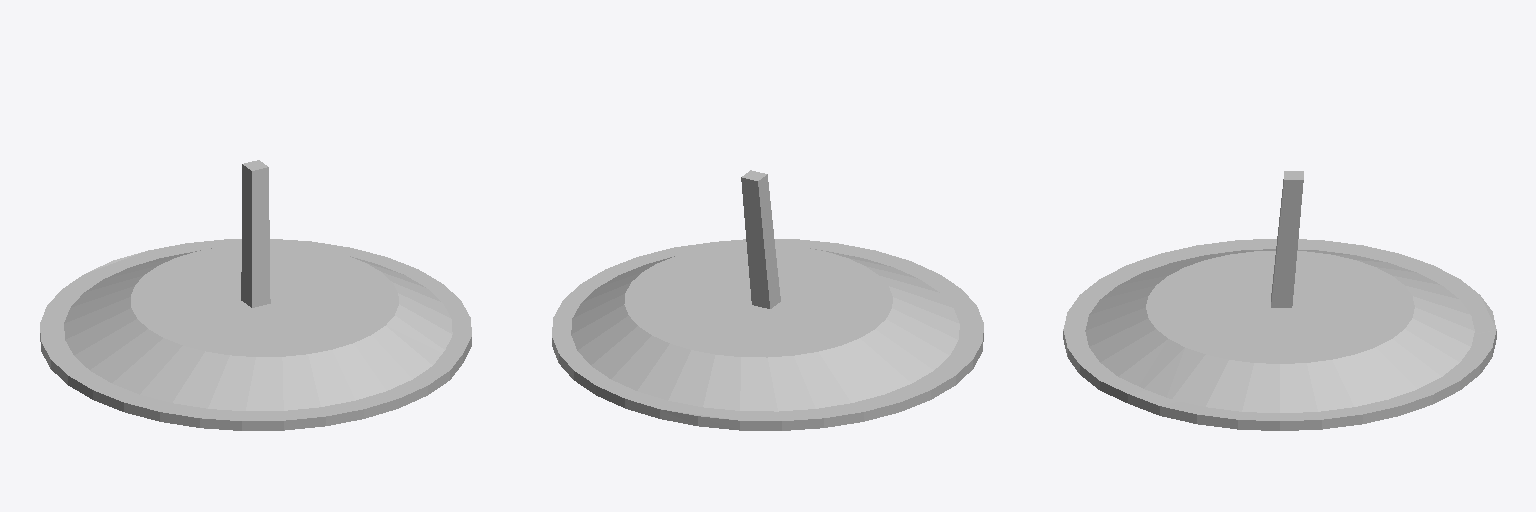
File: WinstonsBana.obj
The picture shows the model from 3 angles: view 1: azimuth 30°, elevation 25°; view 2: azimuth 150°, elevation 25°; view 3: azimuth 270°, elevation 25°; orthographic projection.
Parts seen in each view (by area): view 1: Cylinder.002; view 2: Cylinder.002; view 3: Cylinder.002.
Part boxes in pixels (x1,y1,x2,y2): Cylinder.002: (40,160,471,430); Cylinder.002: (552,170,983,430); Cylinder.002: (1063,171,1496,430).
Size of the model in its own units: 40 by 17.06 by 40.